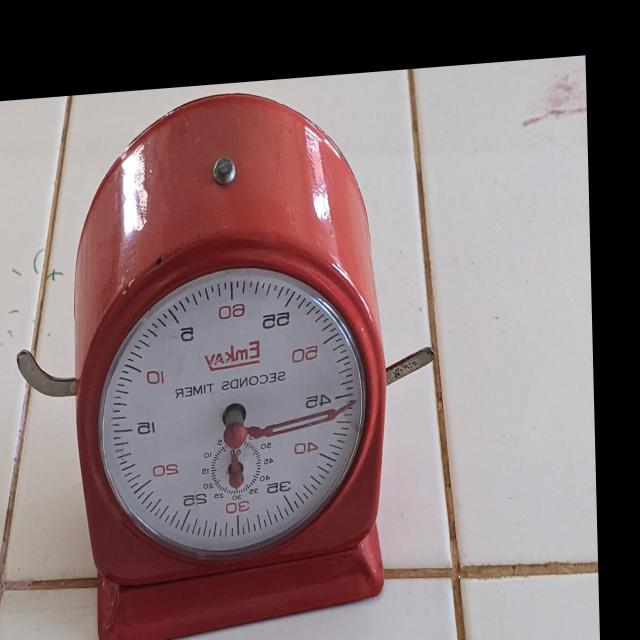Analog Stopwatch: (60, 72, 397, 640)
